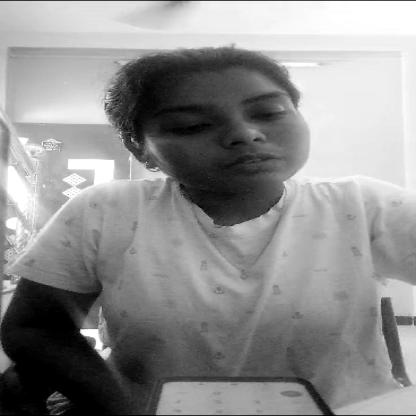Distracted: (102, 53, 316, 184)
